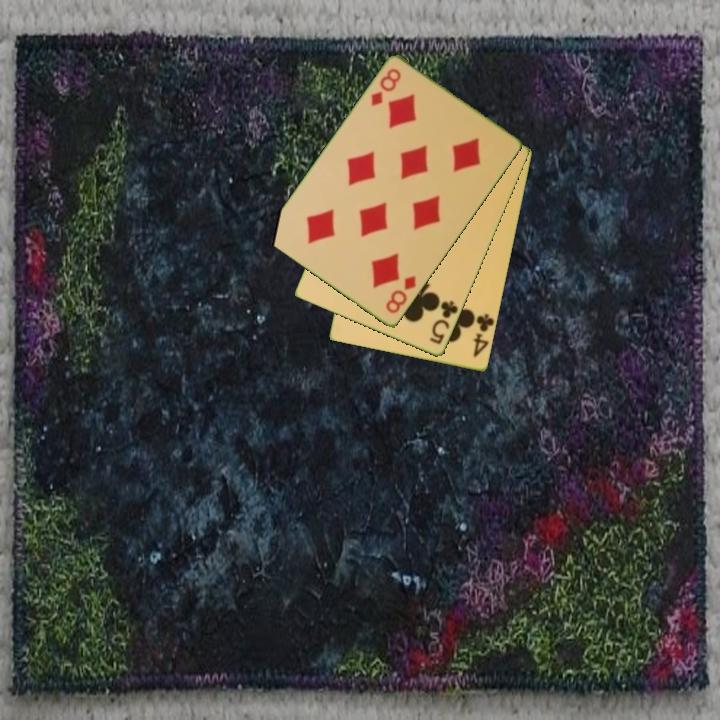4c: (470, 310, 496, 360)
5c: (426, 297, 461, 348)
8d: (382, 272, 419, 317), (367, 65, 404, 110)
